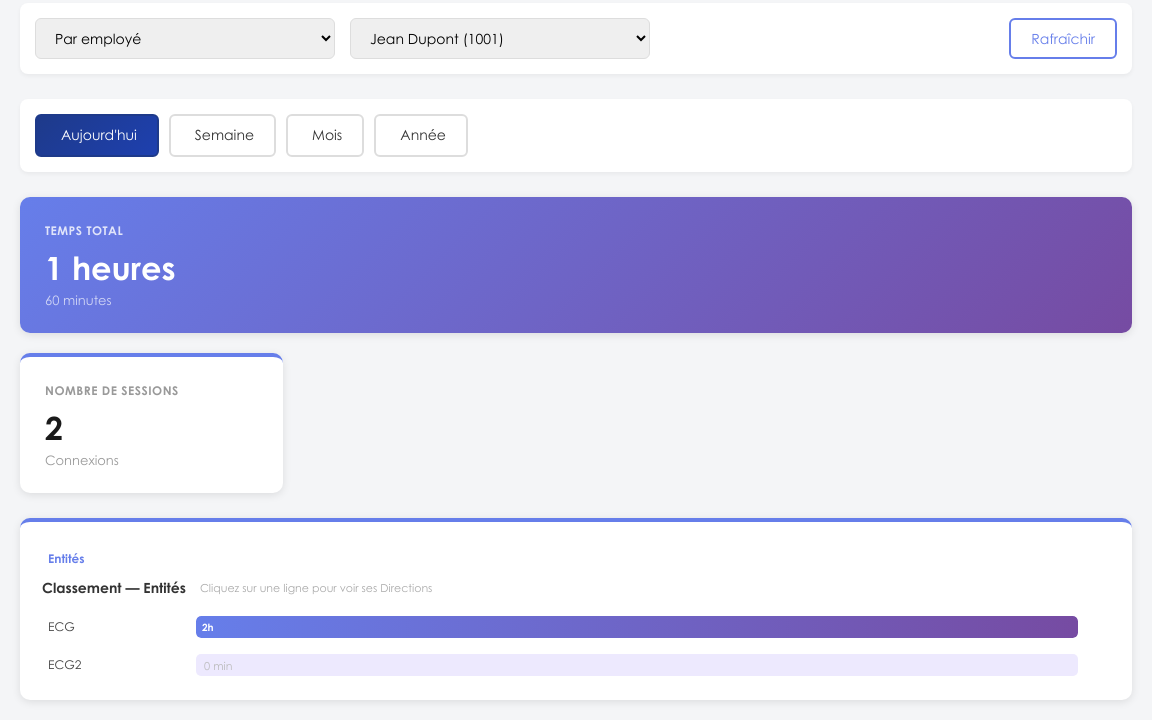
Test: UsageStats — roll-up histogram › highlights selected user when drilled to employee level
(page scrolled)
expect the text "ECG" is shown: met, box 48,619 -> 75,634
// Drill: Entités → ECG → Directions → Finance → Comptabilité → Employees
Click the button "ECG 2h". click: (576, 627)
box: 42,612 -> 1110,642
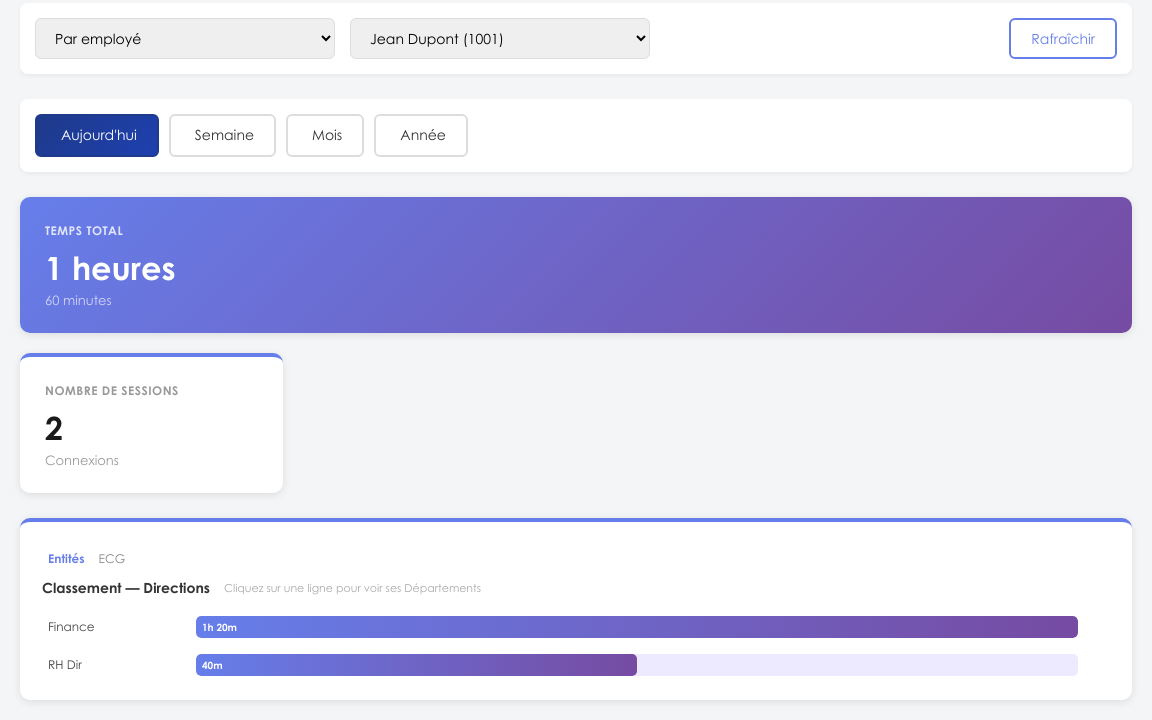
expect the text "Finance" is shown: met, box 48,619 -> 95,634
Click the button "ECG". click: (576, 627)
box: 42,612 -> 1110,642
(page scrolled)
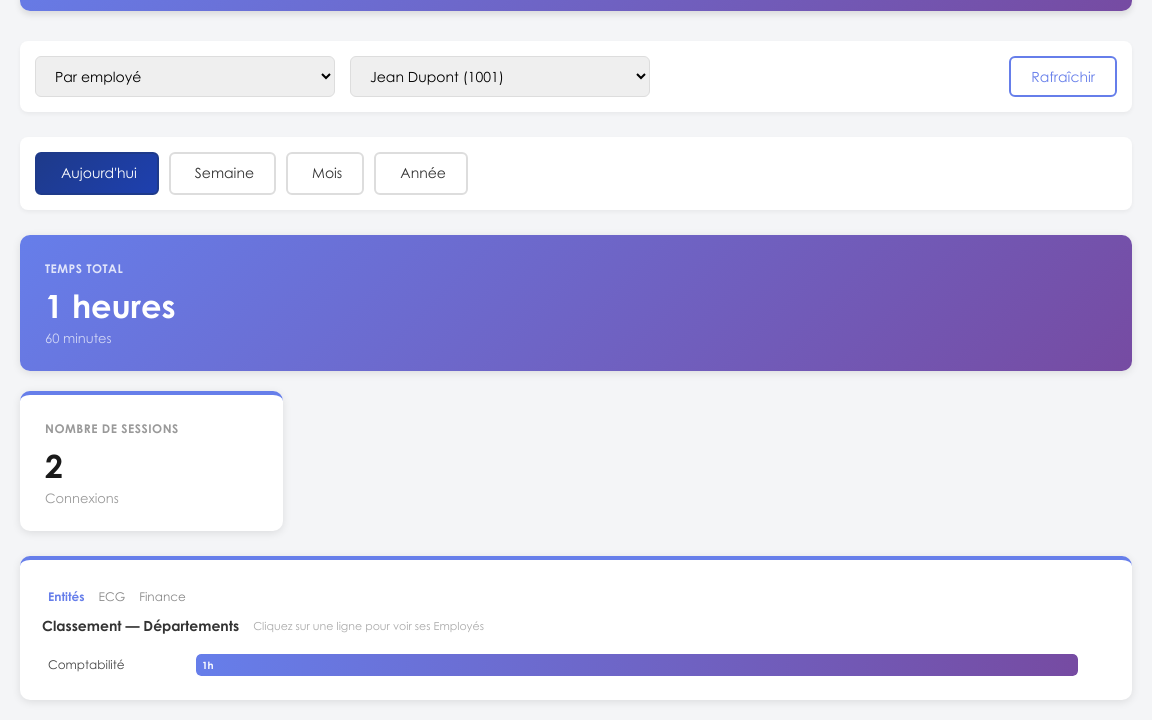
expect the text "Comptabilité" is shown: met, box 48,657 -> 125,672
Click the button "ECG". click: (576, 665)
box: 42,650 -> 1110,680
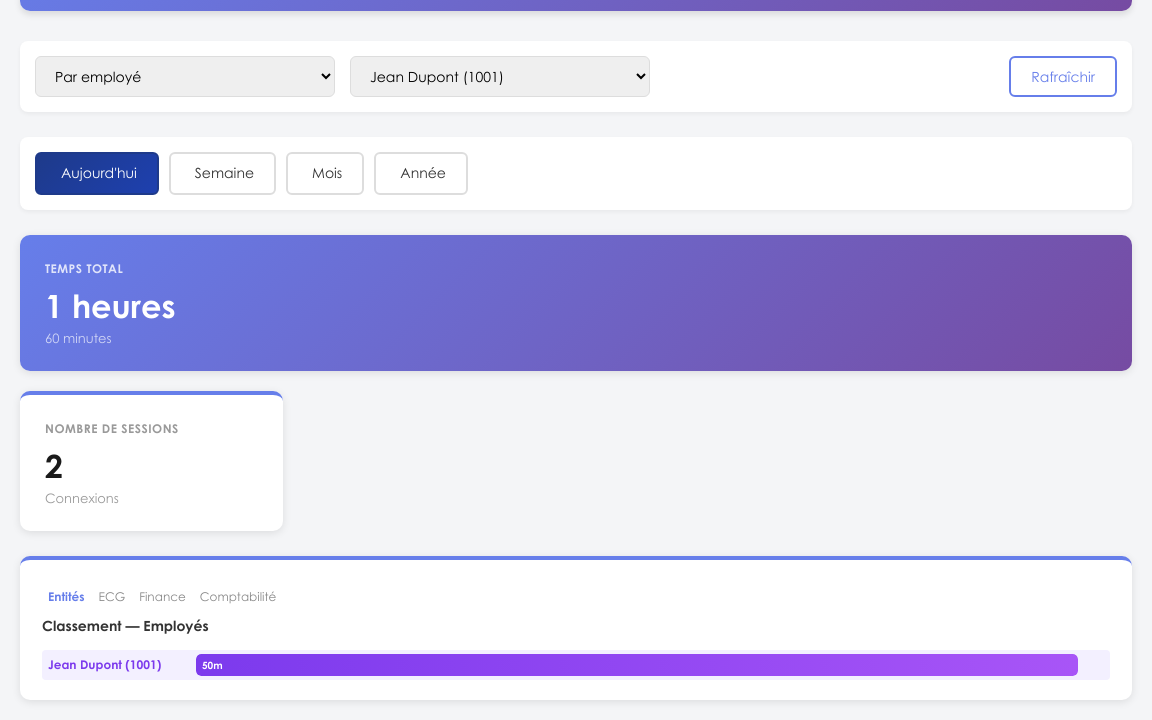
expect the text "Jean Dupont (1001)" is shown: met, box 48,657 -> 161,672
